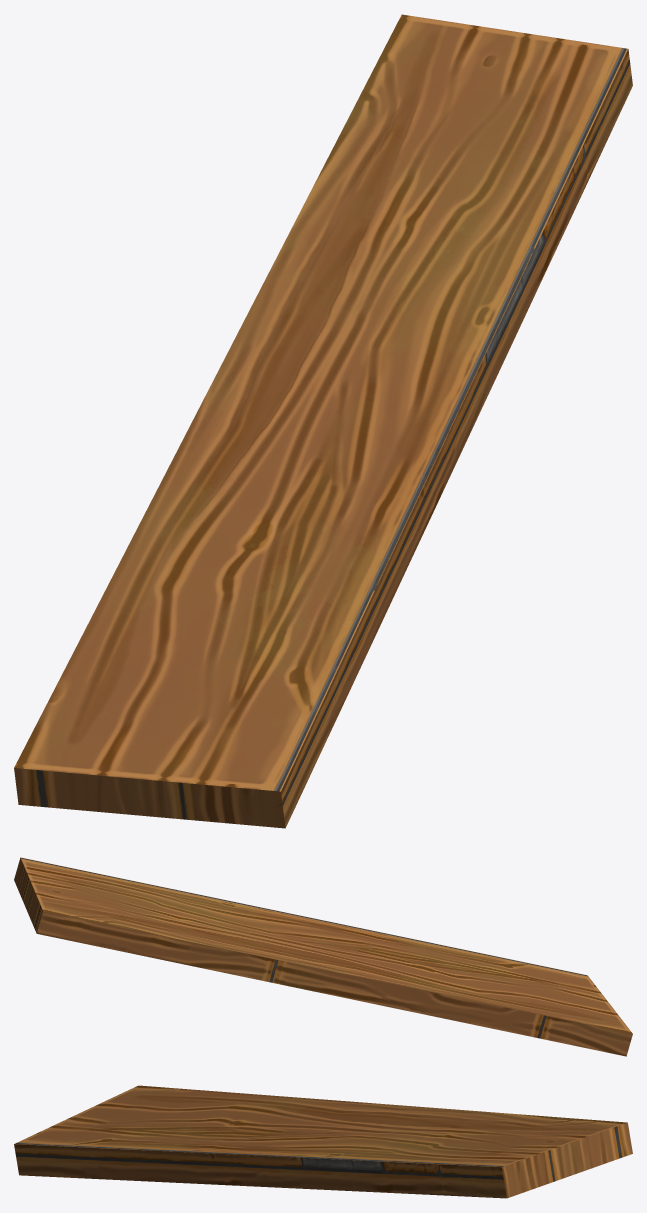
The picture shows the model from 3 angles, top to bottom: view 1: azimuth 30°, elevation 25°; view 2: azimuth 150°, elevation 25°; view 3: azimuth 270°, elevation 25°; orthographic projection. The views are drawn at different scales.
Visible parts, largest first — view 1: Cube.659; view 2: Cube.659; view 3: Cube.659.
Part boxes in pixels (<box>): Cube.659: <box>14,14,632,828</box>; Cube.659: <box>14,857,632,1056</box>; Cube.659: <box>14,1085,632,1198</box>.
Bounding box in the file's own units: 285 × 108 × 251.
Materials: 1 (1 with a texture image).
